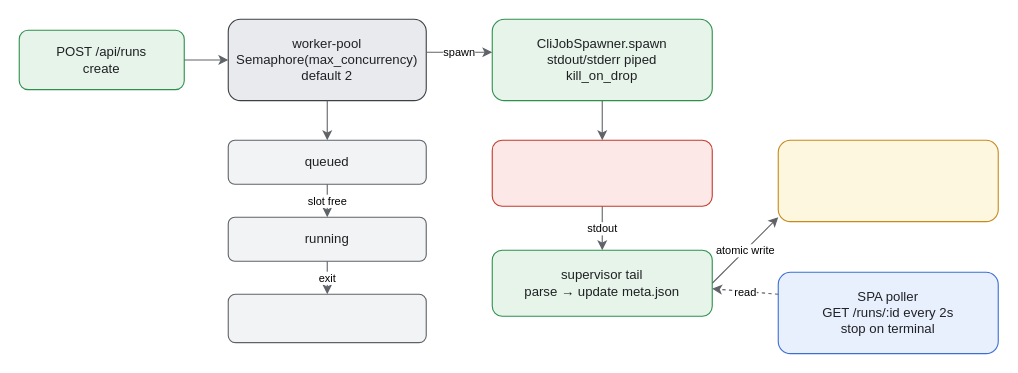
Some shapes in this 1018 by 373 pixel diagram are drawn without their labels. Here are the shapes that lost their labels. From the top down, the centre of each, then its label:
At [601,172]: "qe-cli child process emits JSON-line progress".
At [887,180]: "run store (files) meta.json · result.json stdout.log · index.json".
At [326,318]: "succeeded / failed".
